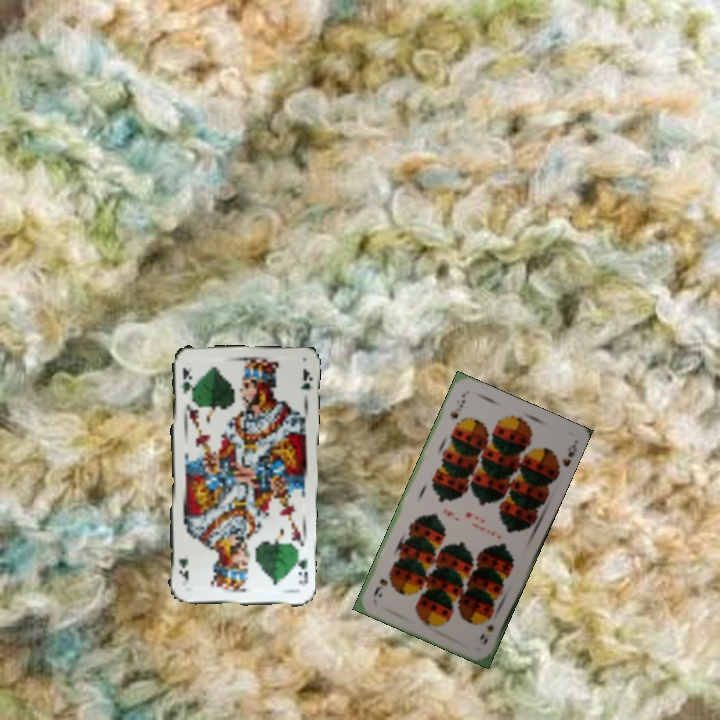GK: (292, 550, 311, 589), (176, 363, 194, 400)
S9: (446, 390, 468, 422), (476, 620, 497, 646)
